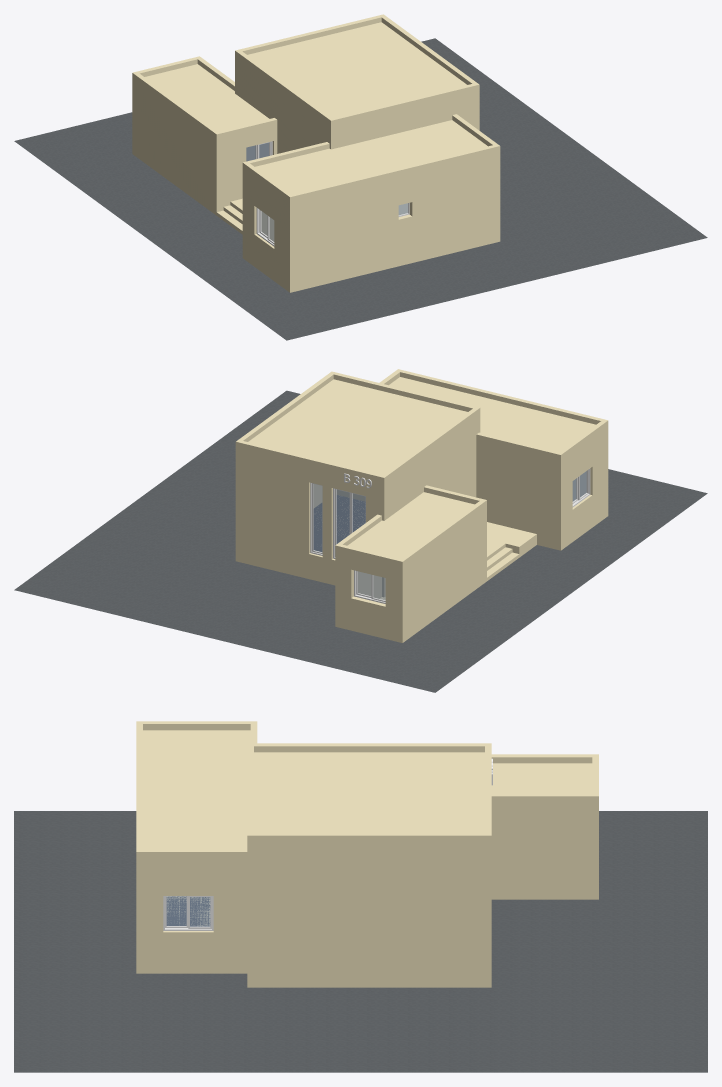
The picture shows the model from 3 angles, top to bottom: view 1: azimuth 30°, elevation 25°; view 2: azimuth 150°, elevation 25°; view 3: azimuth 270°, elevation 25°; orthographic projection. The views are drawn at different scales.
Parts seen in each view (by area): view 1: Root Node, 26727, 26717, 27203, 26938, 27307, 27255, 27048, 27529; view 2: Root Node, 26717, 26727, 26938, 27203, 27307, 27255, 27048, 27524, 27525, 27528, 27529; view 3: Root Node, 26717, 27203, 26727, 26938, 27307, 27255, 27589.
Boxes of the visible parts, x1,y1,x2,y2 form: Root Node: (14,38,707,340); 26727: (242,114,500,292); 26717: (235,14,479,214); 27203: (247,22,466,117); 26938: (132,56,277,215); 27307: (255,120,487,193); 27255: (144,64,269,131); 27048: (216,198,242,234); 27529: (256,208,274,246); Root Node: (14,390,707,692); 26717: (235,371,480,597); 26727: (379,369,608,550); 26938: (335,485,486,642); 27203: (248,379,467,474); 27307: (389,377,595,451); 27255: (347,492,474,558); 27048: (487,522,536,580); 27524: (333,488,365,558); 27525: (310,482,322,555); 27528: (354,570,385,603); 27529: (572,468,590,507); Root Node: (14,811,707,1072); 26717: (247,743,491,987); 27203: (254,752,484,832); 26727: (136,721,257,973); 26938: (491,754,598,899); 27307: (143,730,250,848); 27255: (491,763,592,793); 27589: (163,896,213,930).
Size of the model in its own units: 18.44 by 5 by 20.67.
Materials: 559 (1 with a texture image).
